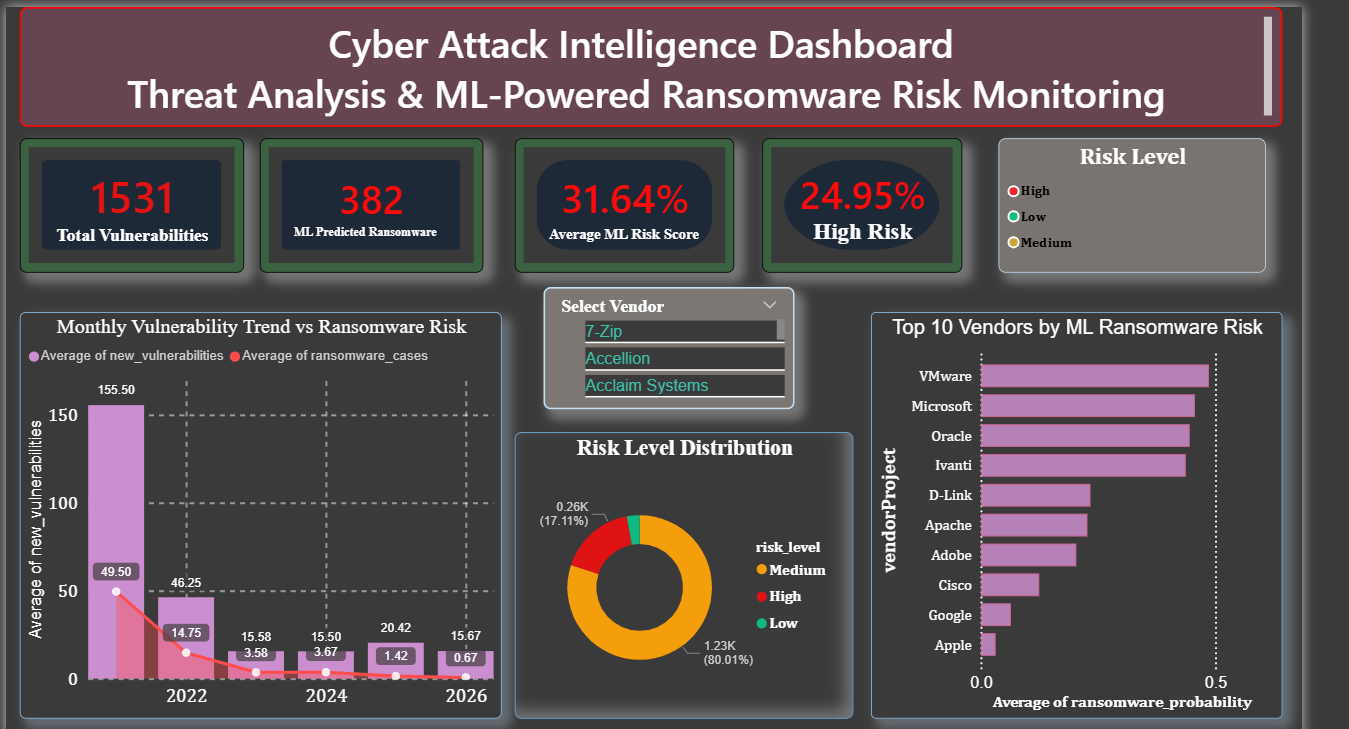

The page's visual inventory and layout, read from the dashboard file:
{"tool":"powerbi","page":{"name":"Overview","canvas":[1280,720],"ordinal":0},"visuals":[{"type":"textbox","box":[13.3,0,1247.5,118.2],"z":0},{"type":"cardVisual","fields":{"Data":["powerbi_main.Total Vulnerabilities"]},"box":[13.3,129.1,222,132.7],"z":1000},{"type":"cardVisual","fields":{"Data":["powerbi_main.ML Predicted Ransomware CVEs"]},"box":[250.9,129.1,220.8,132.7],"z":2000},{"type":"cardVisual","fields":{"Data":["powerbi_main.Average ML Risk Score"]},"box":[501.9,129.1,217.2,132.7],"z":3000},{"type":"cardVisual","fields":{"Data":["powerbi_main.High Risk %"]},"box":[746.8,129.1,197.9,132.7],"z":4000},{"type":"lineClusteredColumnComboChart","title":"Monthly Vulnerability Trend vs Ransomware Risk","fields":{"Category":["monthly_trend.date.Variation.Date Hierarchy.Year","monthly_trend.date.Variation.Date Hierarchy.Quarter","monthly_trend.date.Variation.Date Hierarchy.Month","monthly_trend.date.Variation.Date Hierarchy.Day"],"Y":["Avg(monthly_trend.new_vulnerabilities)"],"Y2":["Avg(monthly_trend.ransomware_cases)"]},"box":[13.4,301.5,476.1,401.5],"z":5000},{"type":"clusteredBarChart","title":"Top 10 Vendors by ML Ransomware Risk","fields":{"Category":["powerbi_main.vendorProject"],"Y":["Avg(powerbi_main.ransomware_probability)"]},"box":[854.2,301.6,406.6,401.7],"z":6000},{"type":"donutChart","title":"Risk Level","fields":{"Category":["powerbi_main.risk_level"]},"box":[980.8,129.1,264.2,132.7],"z":7000},{"type":"slicer","fields":{"Values":["powerbi_main.vendorProject"]},"box":[531.3,276.1,247.8,120.9],"z":8000},{"type":"donutChart","title":"Risk Level Distribution","fields":{"Category":["powerbi_main.risk_level"],"Y":["CountNonNull(powerbi_main.cveID)"]},"box":[501.9,419.8,334.2,283.5],"z":9000}]}

Visuals, with their boxes on the page's 1280x720 design canvas (x1, y1, x2, y2). These are canvas units, not pixel positions in the 1349x729 screenshot, which may show the page scaled, cropped or inside an application window:
textbox: box(13, 0, 1261, 118)
cardVisual - powerbi_main.Total Vulnerabilities: box(13, 129, 235, 262)
cardVisual - powerbi_main.ML Predicted Ransomware CVEs: box(251, 129, 472, 262)
cardVisual - powerbi_main.Average ML Risk Score: box(502, 129, 719, 262)
cardVisual - powerbi_main.High Risk %: box(747, 129, 945, 262)
"Monthly Vulnerability Trend vs Ransomware Risk" lineClusteredColumnComboChart: box(13, 302, 490, 703)
"Top 10 Vendors by ML Ransomware Risk" clusteredBarChart: box(854, 302, 1261, 703)
"Risk Level" donutChart: box(981, 129, 1245, 262)
slicer - powerbi_main.vendorProject: box(531, 276, 779, 397)
"Risk Level Distribution" donutChart: box(502, 420, 836, 703)
